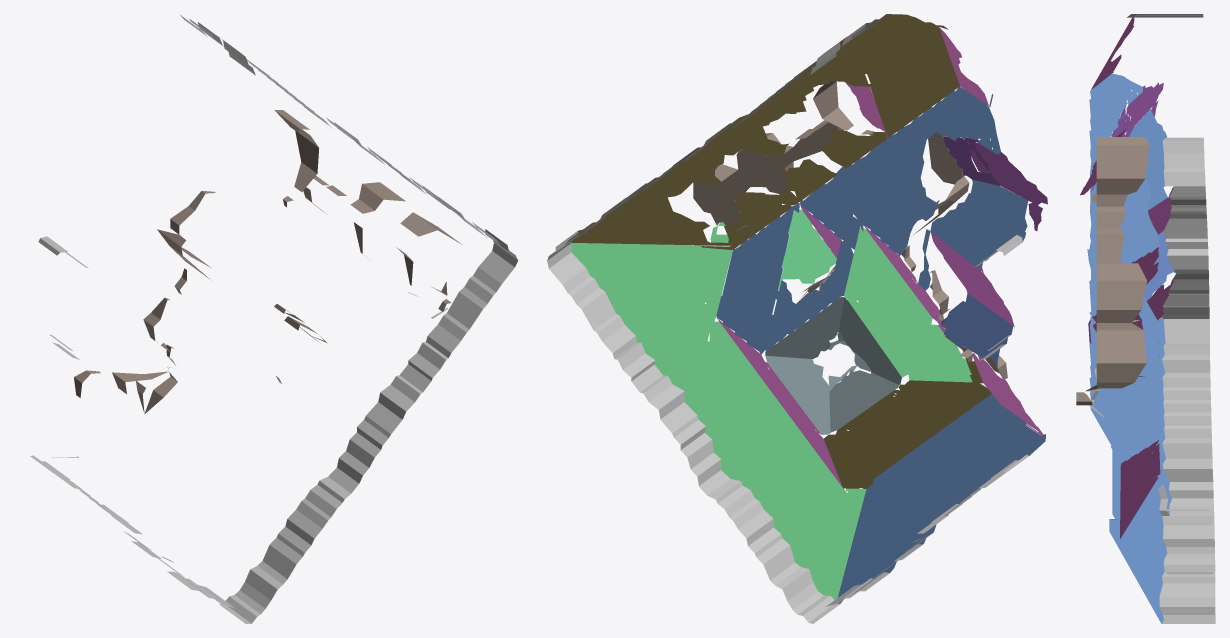
The model's file is roof_model.glb.
The picture shows the model from 3 angles, left to right: view 1: azimuth 30°, elevation 25°; view 2: azimuth 150°, elevation 25°; view 3: azimuth 270°, elevation 25°; orthographic projection. The views are drawn at different scales.
Parts seen in each view (by area): view 1: geometry_0; view 2: geometry_0; view 3: geometry_0.
Boxes of the visible parts, box(x1,y1,x2,y2) form: geometry_0: box(30, 15, 518, 623); geometry_0: box(547, 14, 1047, 623); geometry_0: box(1076, 14, 1215, 623).
Bounding box in the file's own units: 27.6 × 33.2 × 7.22.
